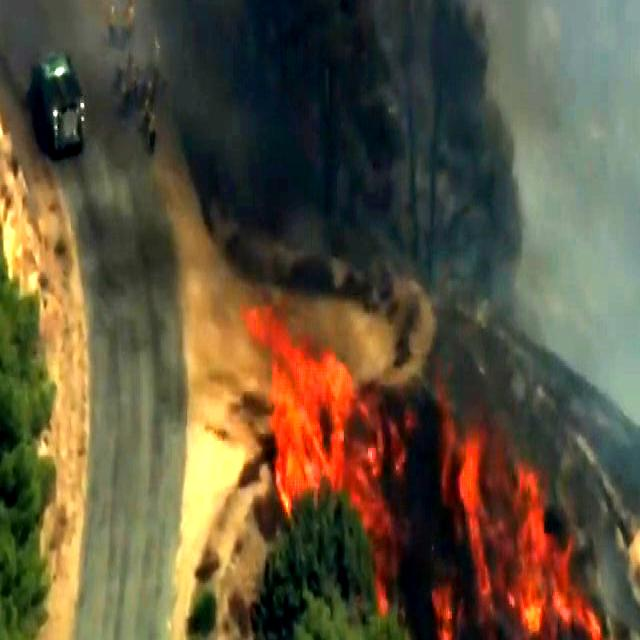fire: (460, 460, 558, 633), (269, 324, 342, 461)
smoke: (550, 0, 640, 268)
